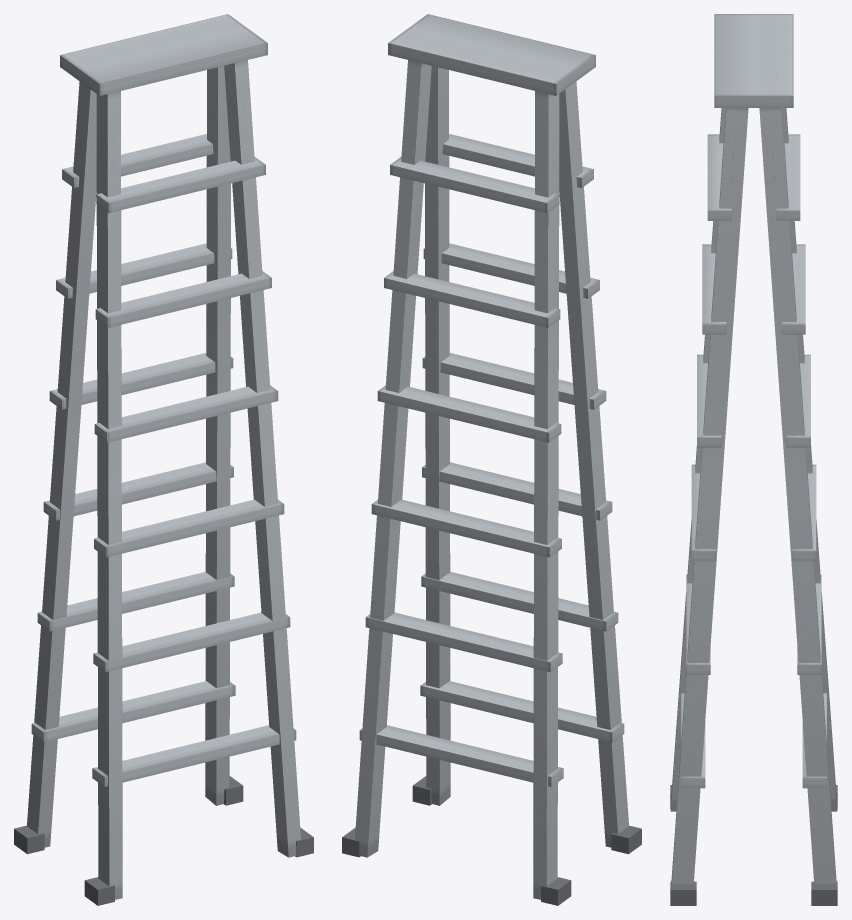
File: ladder_alu.glb
3 views of the same model, side by side, from view 1: azimuth 30°, elevation 25°; view 2: azimuth 150°, elevation 25°; view 3: azimuth 270°, elevation 25° (orthographic).
Parts seen in each view (by area): view 1: ladder_alu; view 2: ladder_alu; view 3: ladder_alu.
Part boxes in pixels (left/top/right/bottom): ladder_alu: left=14, top=14, right=313, bottom=905; ladder_alu: left=342, top=14, right=641, bottom=905; ladder_alu: left=670, top=14, right=837, bottom=905.
Bounding box in the file's own units: 0.565 × 2 × 0.38.
Materials: 2 (1 with a texture image).
